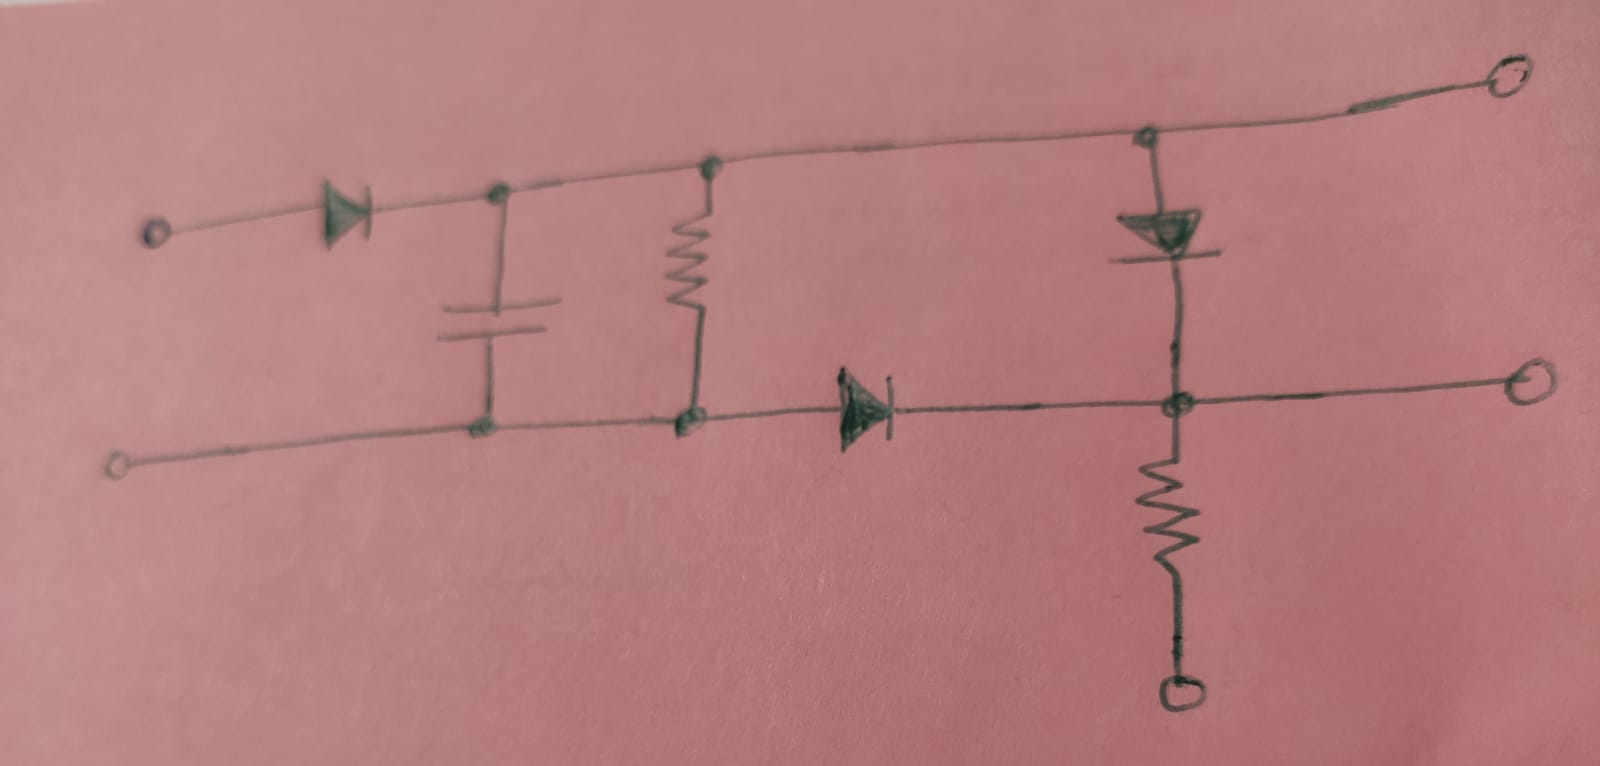capacitor.unpolarized: (434, 289, 562, 350)
diode: (1113, 198, 1224, 275), (829, 365, 900, 454), (311, 176, 379, 252)
junction: (1154, 384, 1201, 425), (476, 178, 527, 211), (668, 399, 712, 437), (693, 148, 734, 185), (1124, 122, 1177, 151), (462, 412, 504, 447)
resistor: (1131, 443, 1203, 574), (659, 199, 723, 319)
terminal: (1151, 666, 1218, 719), (1477, 49, 1535, 100), (1501, 356, 1559, 407), (136, 210, 188, 256), (104, 448, 142, 484)
